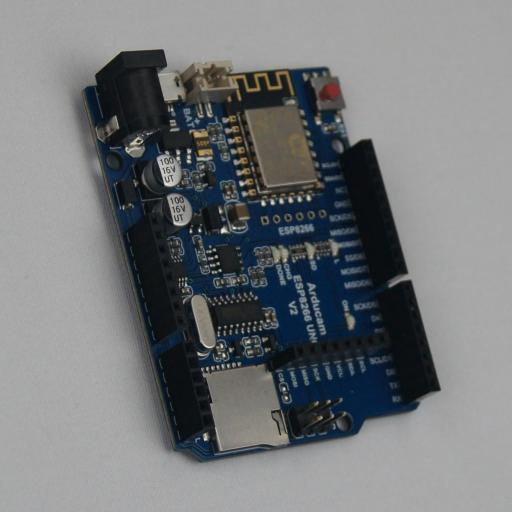Arduino Uno Camera Shield: (76, 49, 440, 463)
